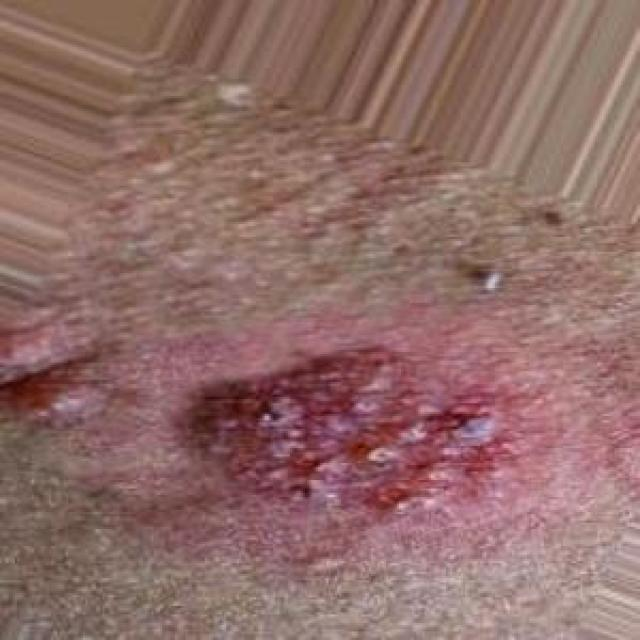Shingles: (187, 346, 520, 523)
